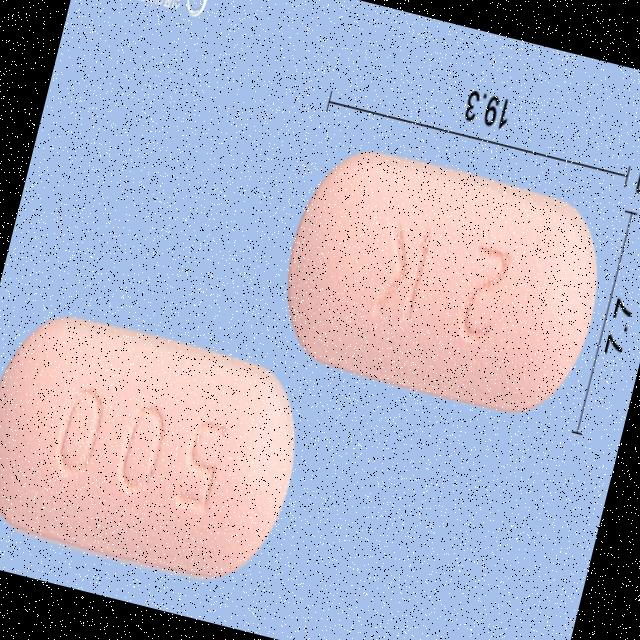Liflocin: (266, 134, 616, 426), (0, 302, 315, 598)
